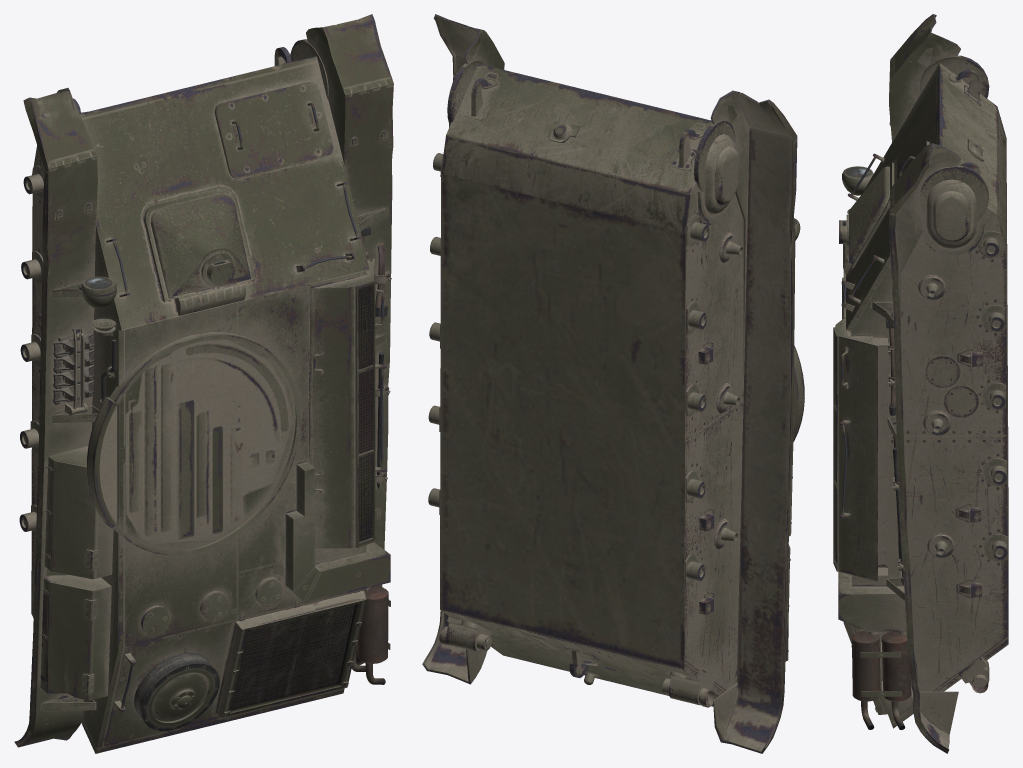
Rendered from Hull.glb.
3 renders of one model, left to right at view 1: azimuth 30°, elevation 25°; view 2: azimuth 150°, elevation 25°; view 3: azimuth 270°, elevation 25°, orthographic. The views are drawn at different scales.
Visible parts, largest first — view 1: set_0_group_0; view 2: set_0_group_0; view 3: set_0_group_0.
Part boxes in pixels (box(x1,y1,x2,y2)): set_0_group_0: box(14, 14, 393, 753); set_0_group_0: box(422, 14, 804, 753); set_0_group_0: box(833, 14, 1008, 753).
Size of the model in its own units: 2.46 by 4.44 by 1.19.
1 material, 1 textured.
